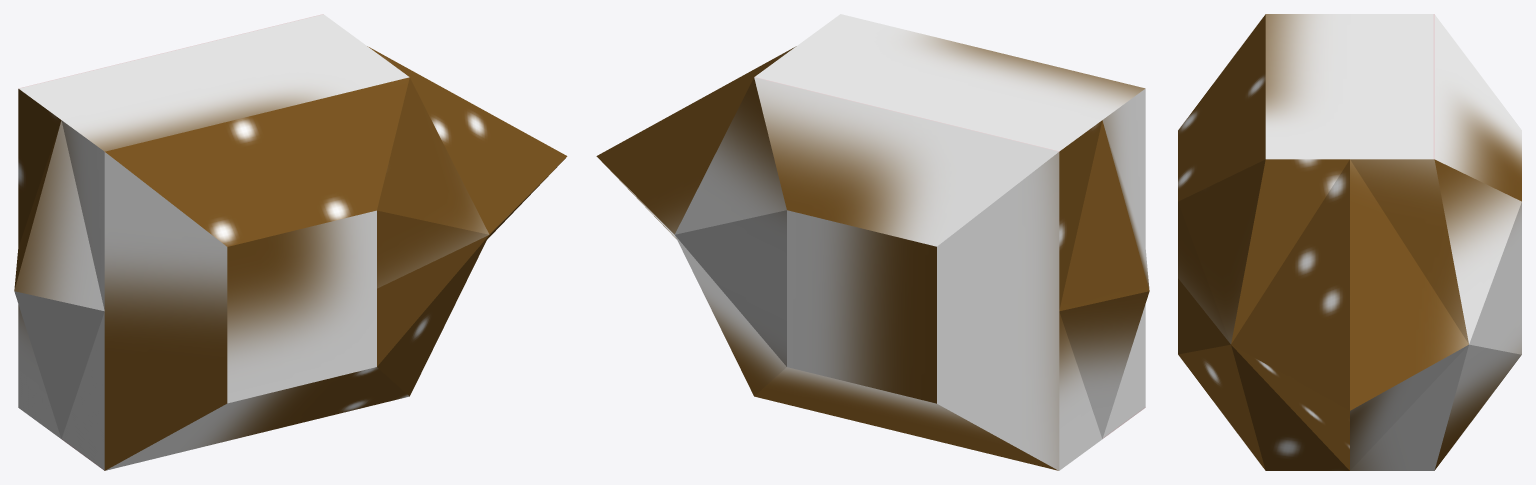
Rendered from boid.dae.
The picture shows the model from 3 angles, left to right: view 1: azimuth 30°, elevation 25°; view 2: azimuth 150°, elevation 25°; view 3: azimuth 270°, elevation 25°; orthographic projection. The views are drawn at different scales.
Parts seen in each view (by area): view 1: Cube; view 2: Cube; view 3: Cube.
Part boxes in pixels (x1=…): Cube: x1=14, y1=14, x2=567, y2=470; Cube: x1=596, y1=14, x2=1149, y2=470; Cube: x1=1178, y1=14, x2=1521, y2=470.
Bounding box in the file's own units: 3.63 × 2 × 2.
